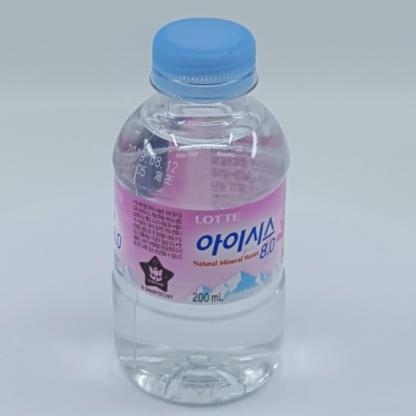------200ML: (111, 17, 291, 408)
